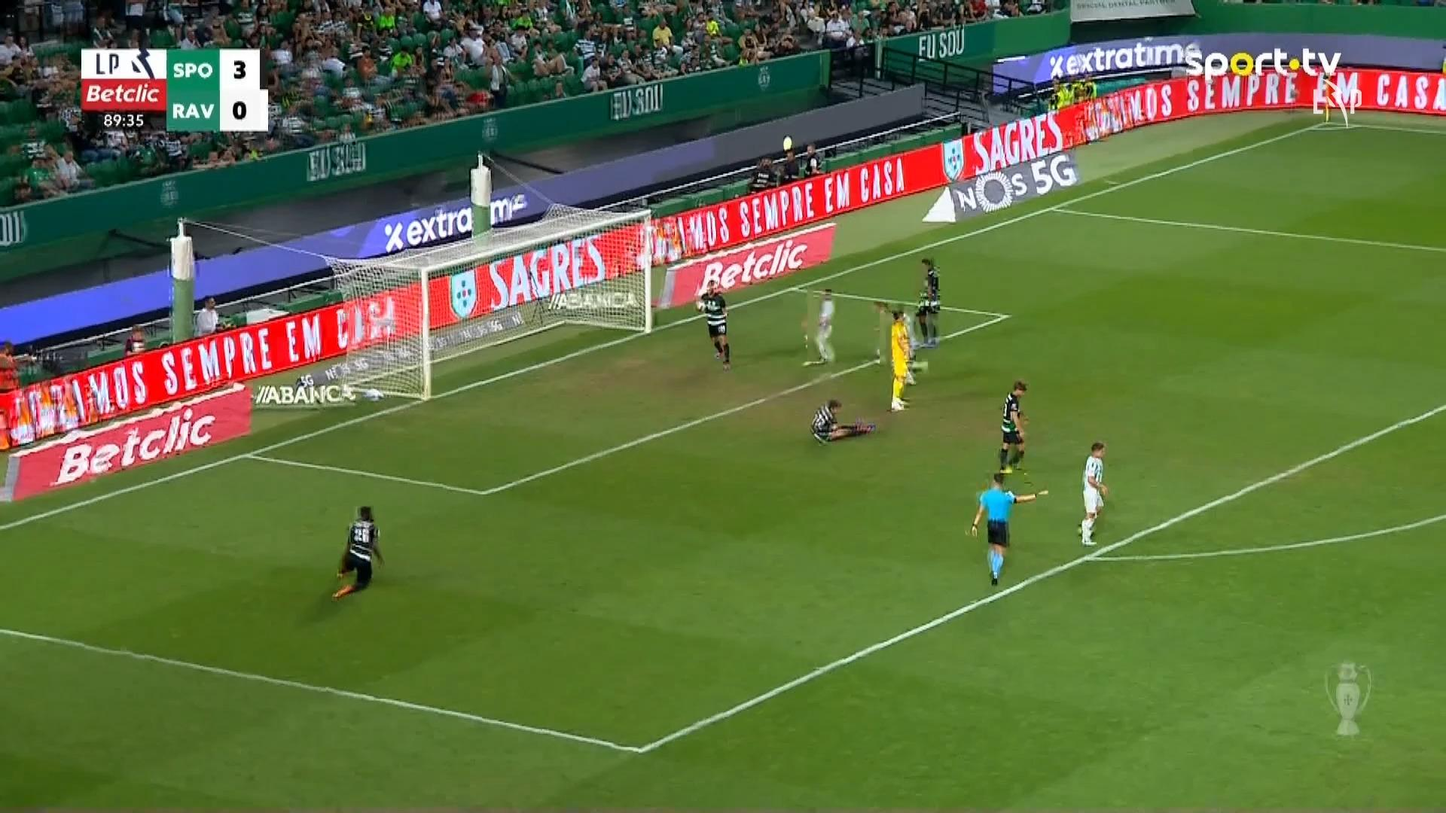goalkeeper: (873, 300, 915, 412)
player: (331, 504, 385, 601), (694, 278, 731, 370), (1078, 440, 1109, 546), (997, 379, 1029, 473), (810, 398, 874, 445), (914, 257, 942, 347), (813, 288, 835, 364)
referee: (966, 470, 1049, 586)
